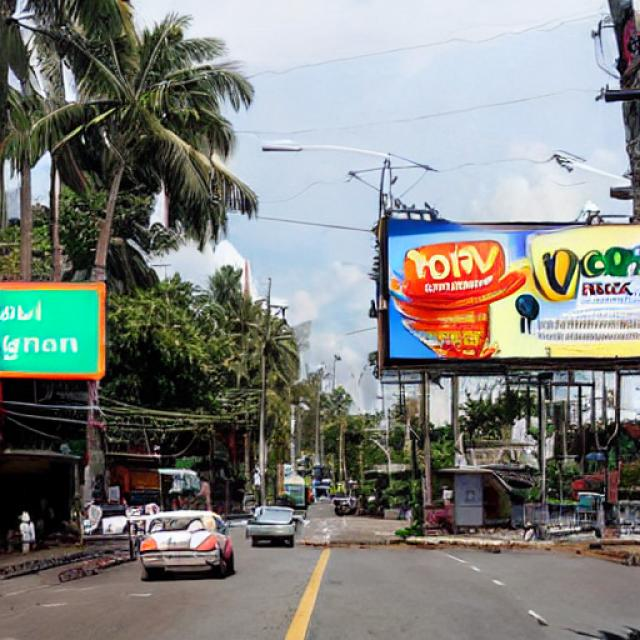Billboard: (375, 216, 640, 369)
